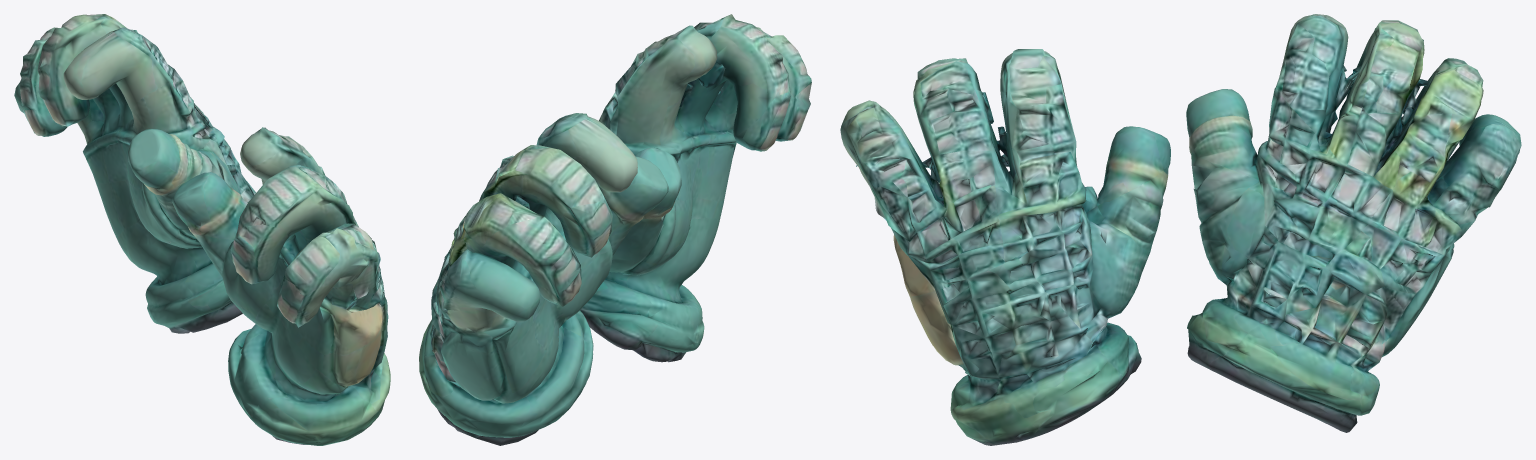
Rendered from acc_hands_gloves_01.glb.
The picture shows the model from 3 angles, left to right: view 1: azimuth 30°, elevation 25°; view 2: azimuth 150°, elevation 25°; view 3: azimuth 270°, elevation 25°; orthographic projection. The views are drawn at different scales.
Visible parts, largest first — view 1: acc_hands_gloves_01; view 2: acc_hands_gloves_01; view 3: acc_hands_gloves_01.
Part boxes in pixels (x1,y1,x2,y2): acc_hands_gloves_01: [14, 14, 390, 445]; acc_hands_gloves_01: [419, 14, 811, 445]; acc_hands_gloves_01: [840, 14, 1521, 445].
Size of the model in its own units: 0.116 by 0.1797 by 0.2893.
Materials: 1 (1 with a texture image).
